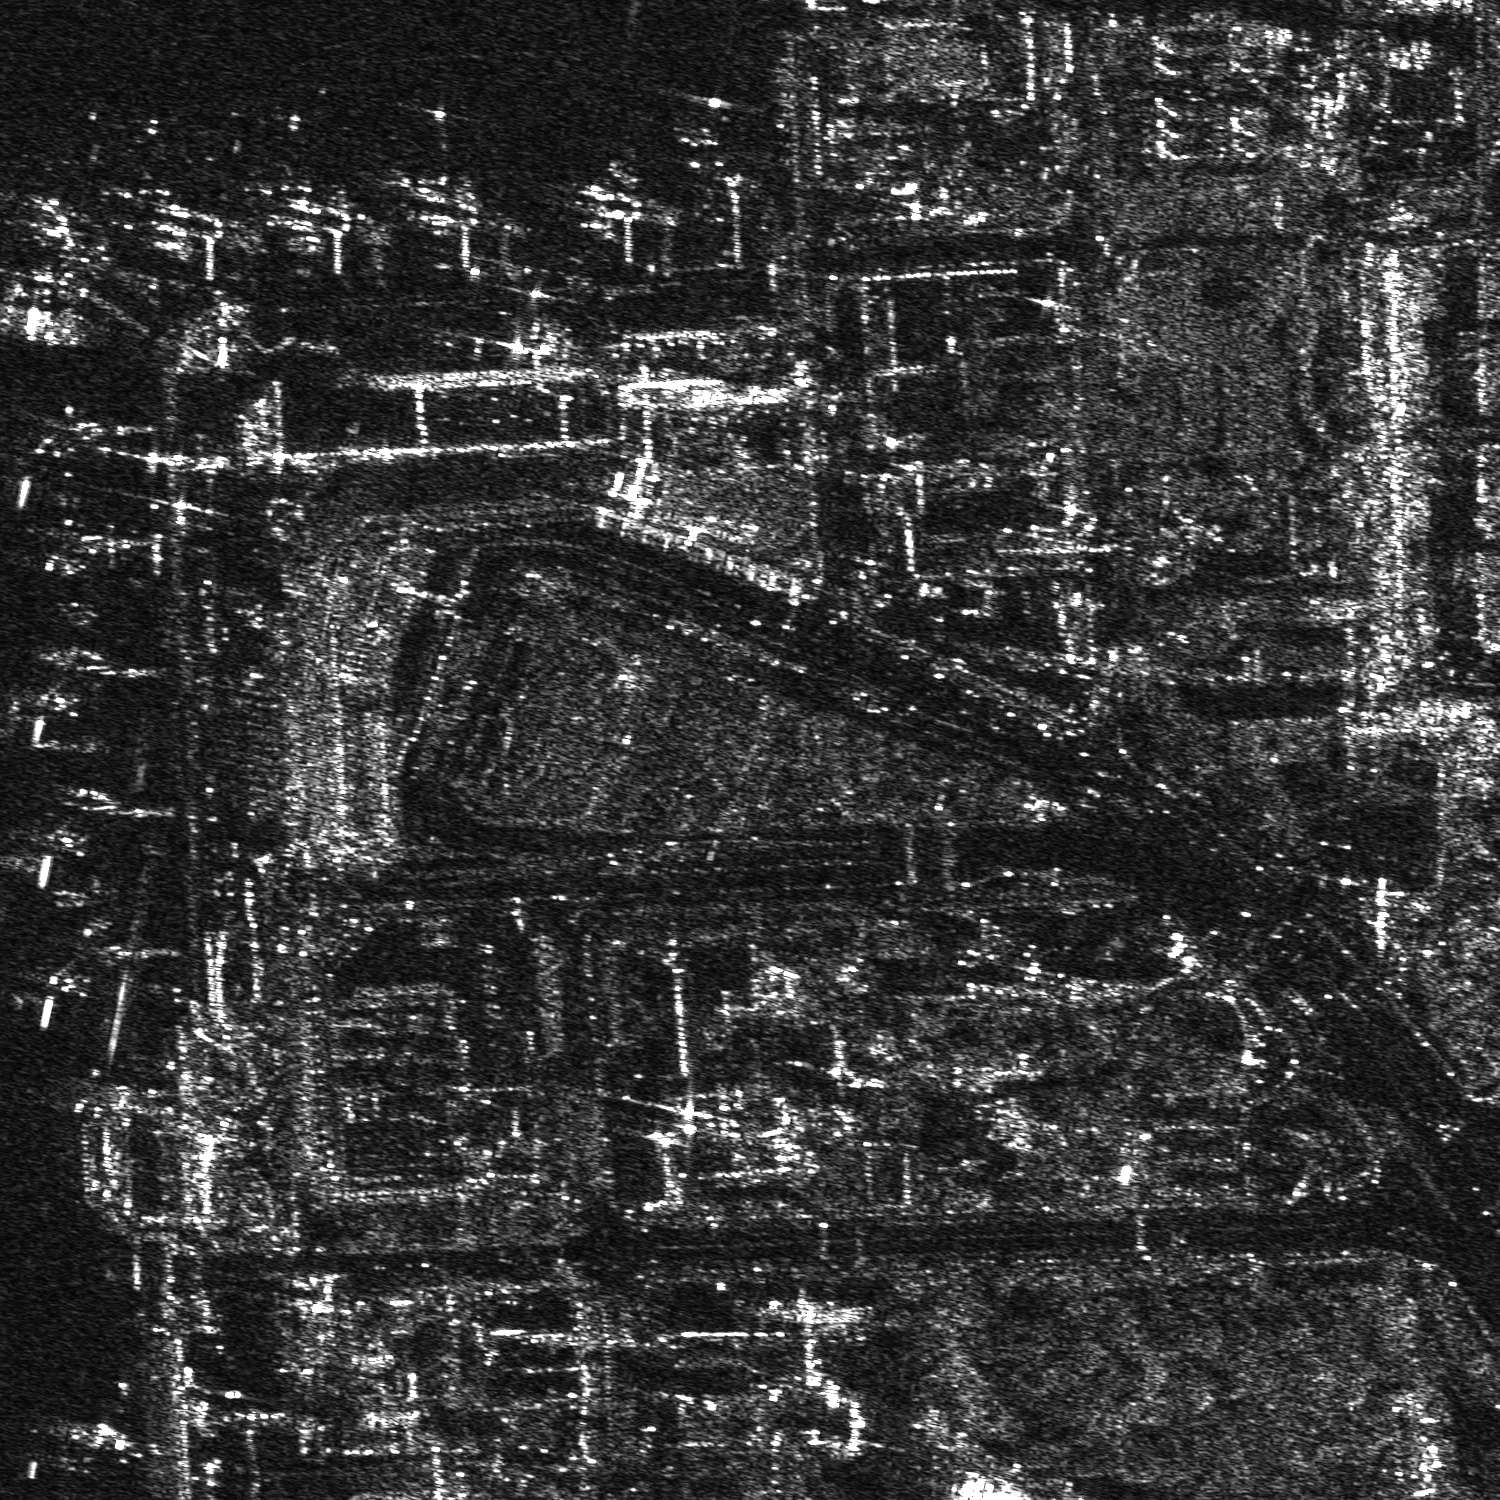A220: (16, 1412, 157, 1482), (665, 89, 755, 185)
